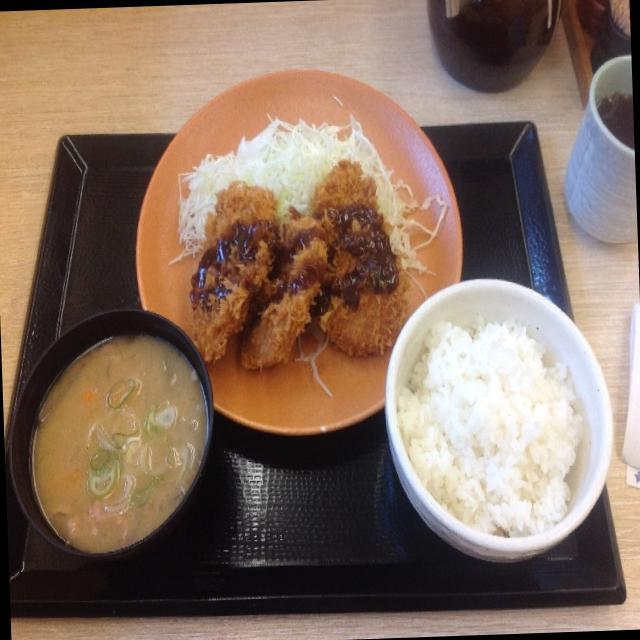Rice: (398, 301, 595, 539)
